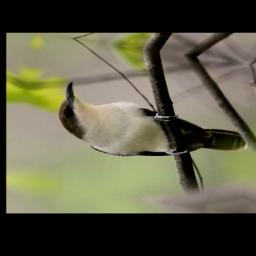Cuckoo: (50, 79, 256, 174)
